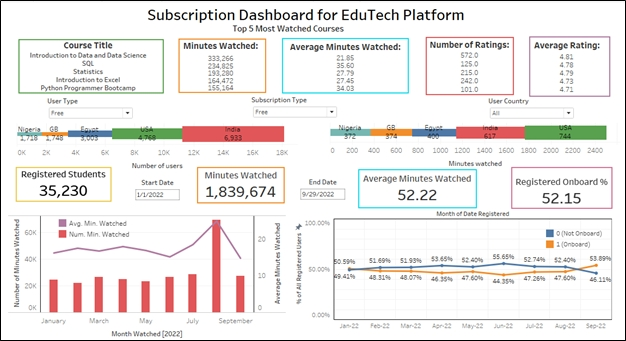

This screenshot's page, from the dashboard's own definition file:
{"tool":"tableau","page":{"name":"Dashboard 2","canvas":[1000,1000],"units":"permille","ordinal":1},"visuals":[{"type":"text","box":[338.5,45.9,236.4,58.5]},{"type":"worksheet","title":"Sheet 15","mark":"Automatic","rows":["course_title"],"box":[839.8,98.1,129,175.6]},{"type":"worksheet","title":"Sheet 14","mark":"Automatic","rows":["course_title"],"box":[675.3,99.7,140.3,169.3]},{"type":"worksheet","title":"Sheet 13","mark":"Automatic","rows":["course_title"],"box":[446.8,102.9,201.7,161.4]},{"type":"worksheet","title":"Sheet 12","mark":"Automatic","rows":["course_title"],"box":[282.2,104.4,139.4,158.2]},{"type":"worksheet","title":"Sheet 11","mark":"Automatic","rows":["course_title"],"box":[27.7,106,231.2,158.2]},{"type":"parameter","param":"[Parameters].[Parameter 4]","box":[398.3,269,138.5,77.5]},{"type":"parameter","param":"[Parameters].[Parameter 3]","box":[73.6,272.1,138.5,69.6]},{"type":"parameter","param":"[Parameters].[Parameter 5]","box":[774.9,272.1,138.5,69.6]},{"type":"worksheet","title":"Chart 1.2","mark":"Automatic","cols":["watched"],"box":[522.9,325.9,462.3,166.1]},{"type":"worksheet","title":"Chart 1.1","mark":"Automatic","cols":["student_id"],"box":[25.1,327.5,446.8,170.9]},{"type":"worksheet","title":"KPI 3.1","mark":"Automatic","box":[23.4,477.9,152.4,101.3]},{"type":"worksheet","title":"Sheet 16","mark":"Automatic","box":[311.7,477.9,139.4,106]},{"type":"worksheet","title":"KPI 3.4","mark":"Automatic","box":[811.3,477.9,161,121.8]},{"type":"worksheet","title":"Sheet 18","mark":"Automatic","box":[568,484.2,188.7,113.9]},{"type":"parameter","param":"[Parameters].[Parameter 2]","box":[473.6,507.9,76.2,69.6]},{"type":"parameter","param":"[Parameters].[Parameter 1]","box":[211.3,509.5,75.3,69.6]},{"type":"worksheet","title":"Chart 1.4","mark":"Automatic","rows":["student_id"],"cols":["date_registered"],"box":[466.7,572.8,504.8,381.3]},{"type":"worksheet","title":"Chart 1.3","mark":"Automatic","rows":["watched","Calculation_328199874047860738"],"cols":["date watched"],"box":[11.3,594.9,442.4,394]},{"type":"legend","title":"Chart 1.3","param":"[federated.17zh5891uuo2ov11q4crc12ms6hf].[:Measure Names]","box":[89.2,625,121.2,68]},{"type":"legend","title":"Chart 1.4","param":"[federated.1azsmcr1r3pasu0zs389k1yv1byv].[none:onboard/not:ok]","box":[864.1,655.1,121.2,66.5]}]}

Visuals, with their boxes on the dashboard's canvas, which has no fixed pixel size, in thousandths of its width and height (x1, y1, x2, y2). These are canvas units, not pixel positions in the 626x341 screenshot, which may show the page scaled, cropped or inside an application window:
text: [x1=338, y1=46, x2=575, y2=104]
"Sheet 15" worksheet: [x1=840, y1=98, x2=969, y2=274]
"Sheet 14" worksheet: [x1=675, y1=100, x2=816, y2=269]
"Sheet 13" worksheet: [x1=447, y1=103, x2=648, y2=264]
"Sheet 12" worksheet: [x1=282, y1=104, x2=422, y2=263]
"Sheet 11" worksheet: [x1=28, y1=106, x2=259, y2=264]
parameter: [x1=398, y1=269, x2=537, y2=346]
parameter: [x1=74, y1=272, x2=212, y2=342]
parameter: [x1=775, y1=272, x2=913, y2=342]
"Chart 1.2" worksheet: [x1=523, y1=326, x2=985, y2=492]
"Chart 1.1" worksheet: [x1=25, y1=328, x2=472, y2=498]
"KPI 3.1" worksheet: [x1=23, y1=478, x2=176, y2=579]
"Sheet 16" worksheet: [x1=312, y1=478, x2=451, y2=584]
"KPI 3.4" worksheet: [x1=811, y1=478, x2=972, y2=600]
"Sheet 18" worksheet: [x1=568, y1=484, x2=757, y2=598]
parameter: [x1=474, y1=508, x2=550, y2=578]
parameter: [x1=211, y1=510, x2=287, y2=579]
"Chart 1.4" worksheet: [x1=467, y1=573, x2=972, y2=954]
"Chart 1.3" worksheet: [x1=11, y1=595, x2=454, y2=989]
"Chart 1.3" legend: [x1=89, y1=625, x2=210, y2=693]
"Chart 1.4" legend: [x1=864, y1=655, x2=985, y2=722]
